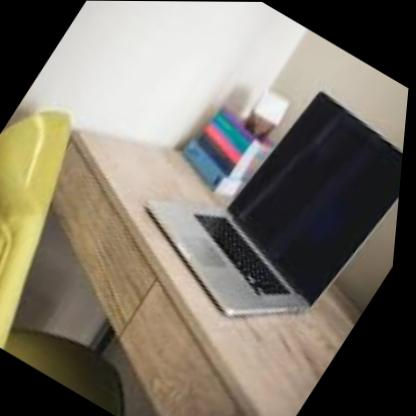Table: (0, 31, 414, 416)
